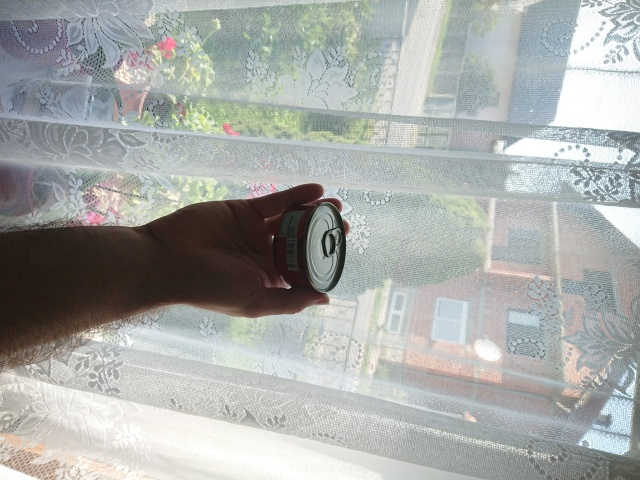Gavrilovic Pork Liver Pate 100g: (269, 198, 348, 296)
